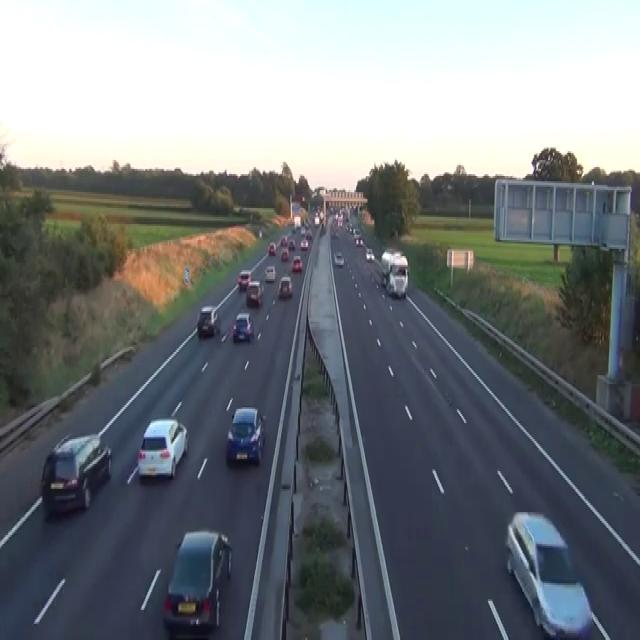Car: (504, 510, 593, 638), (162, 530, 232, 631), (40, 432, 112, 516), (137, 418, 188, 478), (226, 405, 266, 464), (197, 304, 219, 338), (232, 311, 253, 341), (246, 279, 263, 308), (277, 275, 292, 297), (237, 268, 251, 290), (292, 254, 302, 272), (264, 265, 275, 281), (334, 250, 344, 266), (365, 247, 374, 261), (280, 247, 289, 261), (267, 242, 276, 254), (319, 222, 326, 235), (392, 249, 402, 258), (300, 238, 308, 249), (355, 235, 363, 245), (313, 213, 319, 226), (288, 238, 295, 249), (346, 222, 353, 233), (280, 235, 287, 245), (353, 228, 361, 236), (331, 230, 338, 238), (305, 230, 312, 238), (258, 228, 262, 238), (300, 226, 305, 234), (291, 226, 296, 233)
Truck: (380, 249, 409, 299)
